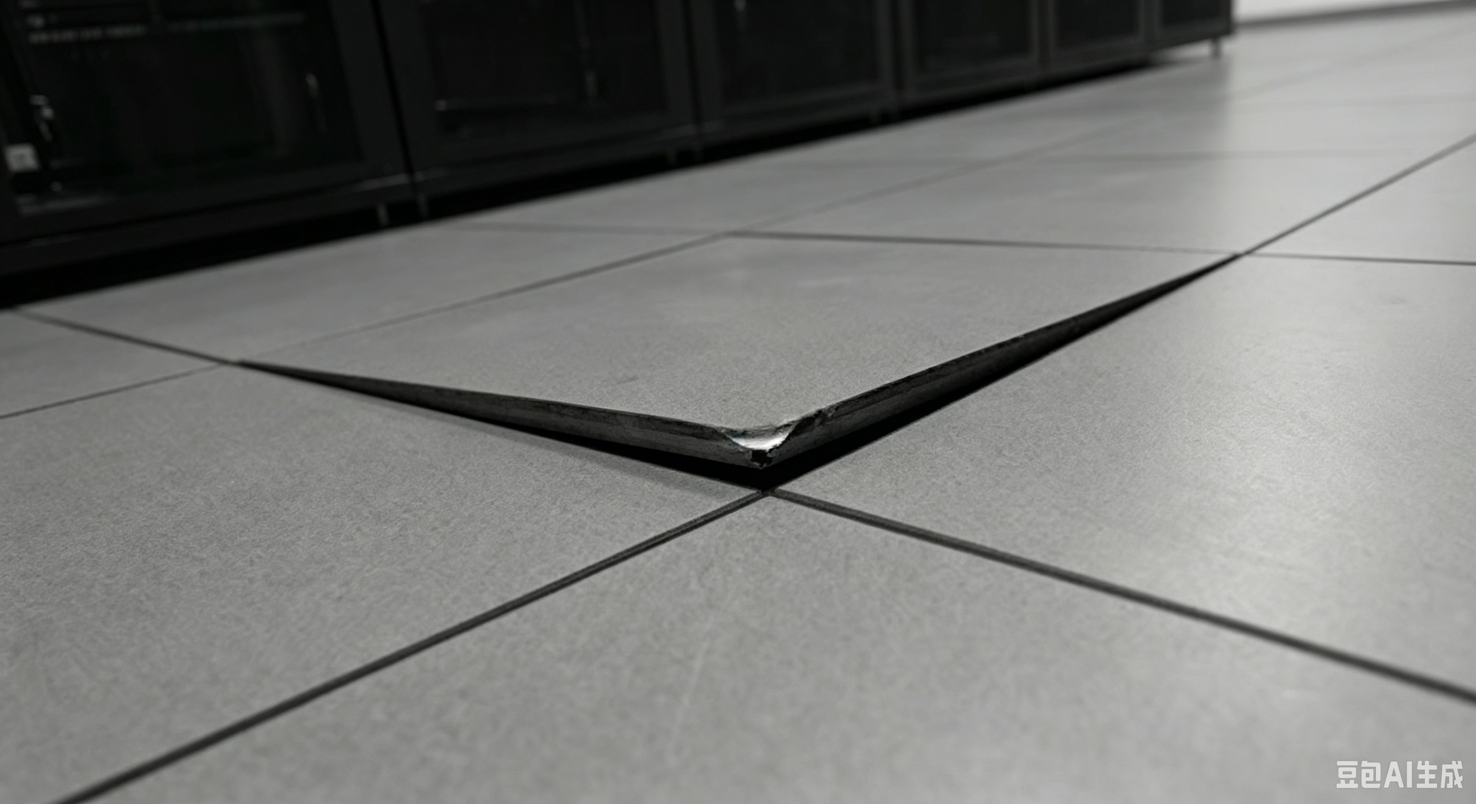floor_defect: (252, 350, 784, 526), (784, 326, 1034, 504), (1037, 249, 1235, 371)
